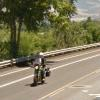Motorcycle: (25, 53, 53, 92)
